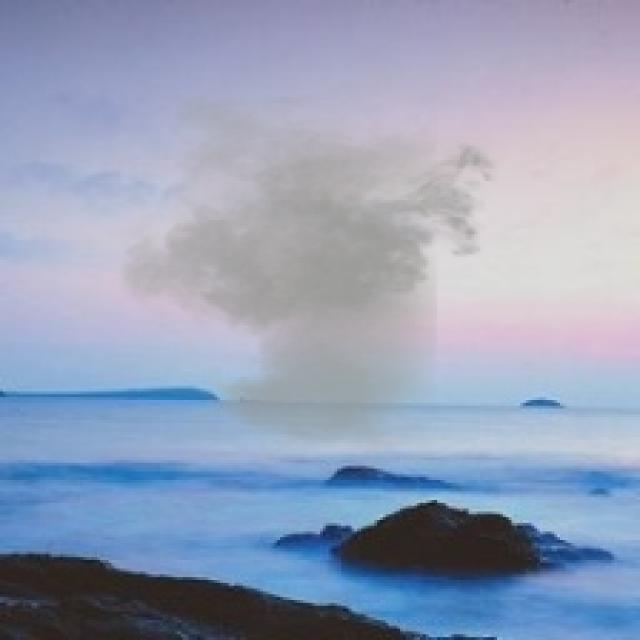smoke: (103, 94, 508, 454)
